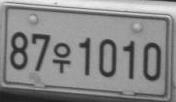0: (97, 37, 117, 78), (141, 41, 161, 81)
1: (120, 39, 140, 80), (76, 36, 95, 75)
7: (31, 32, 51, 71)
8: (9, 30, 29, 70)
우: (52, 41, 71, 73)
